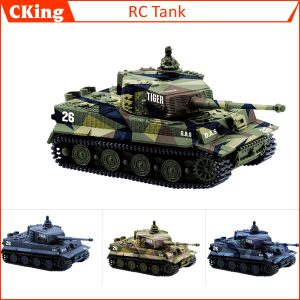Battle Tank: (47, 63, 285, 190), (2, 218, 94, 272), (106, 227, 201, 277), (208, 228, 300, 276)
